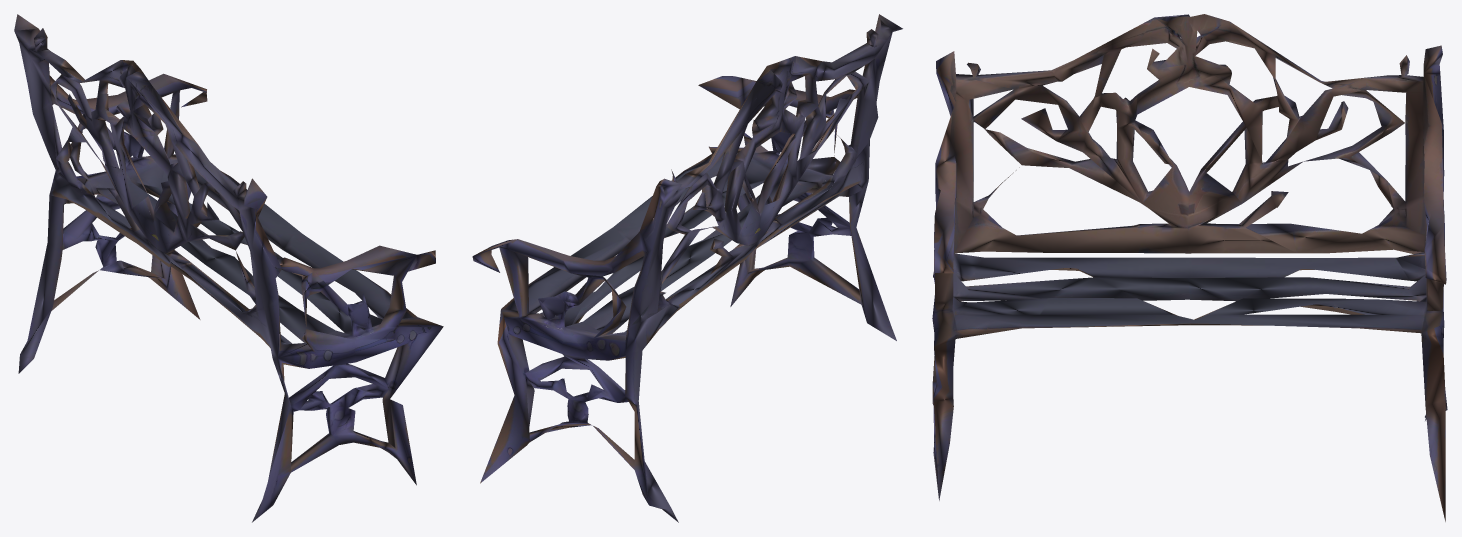
The model's file is garden_bench.glb.
The picture shows the model from 3 angles, left to right: view 1: azimuth 30°, elevation 25°; view 2: azimuth 150°, elevation 25°; view 3: azimuth 270°, elevation 25°; orthographic projection. The views are drawn at different scales.
Visible parts, largest first — view 1: tripo_node_b7b60a35-bc9c-4235-9a9f-f51dbed6a13c; view 2: tripo_node_b7b60a35-bc9c-4235-9a9f-f51dbed6a13c; view 3: tripo_node_b7b60a35-bc9c-4235-9a9f-f51dbed6a13c.
Boxes of the visible parts, x1,y1,x2,y2 form: tripo_node_b7b60a35-bc9c-4235-9a9f-f51dbed6a13c: [14, 14, 443, 522]; tripo_node_b7b60a35-bc9c-4235-9a9f-f51dbed6a13c: [472, 14, 902, 522]; tripo_node_b7b60a35-bc9c-4235-9a9f-f51dbed6a13c: [932, 14, 1447, 521].
Size of the model in its own units: 0.4858 by 0.8811 by 0.9915.
1 material, 1 textured.
